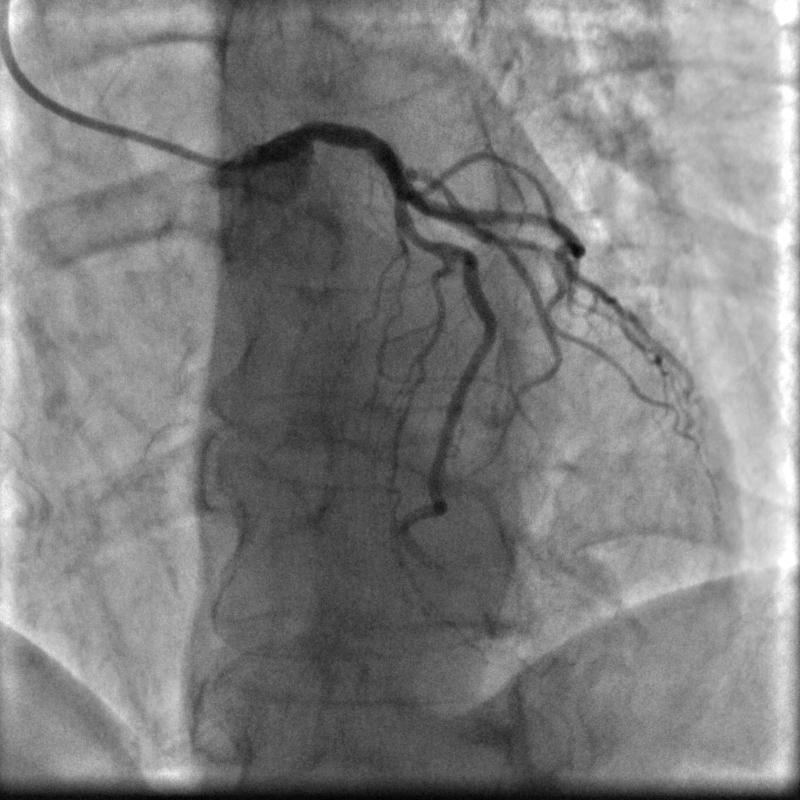Stenosis: (402, 230, 436, 246)
